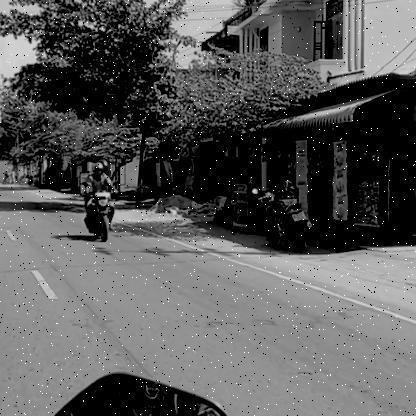motorcycle: (80, 191, 121, 245)
